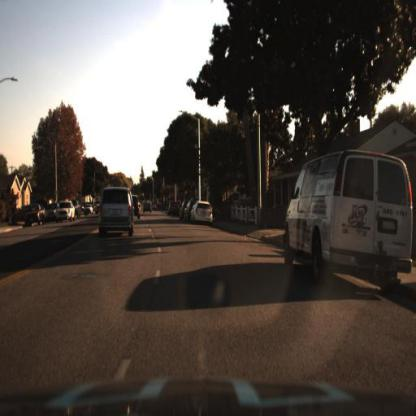car: (284, 154, 416, 293), (97, 184, 138, 241), (54, 200, 76, 227), (190, 200, 215, 223), (57, 199, 78, 224), (23, 204, 44, 227), (164, 200, 182, 221), (81, 199, 96, 221), (46, 201, 58, 224), (182, 200, 190, 225), (176, 200, 184, 224), (144, 202, 153, 218)
